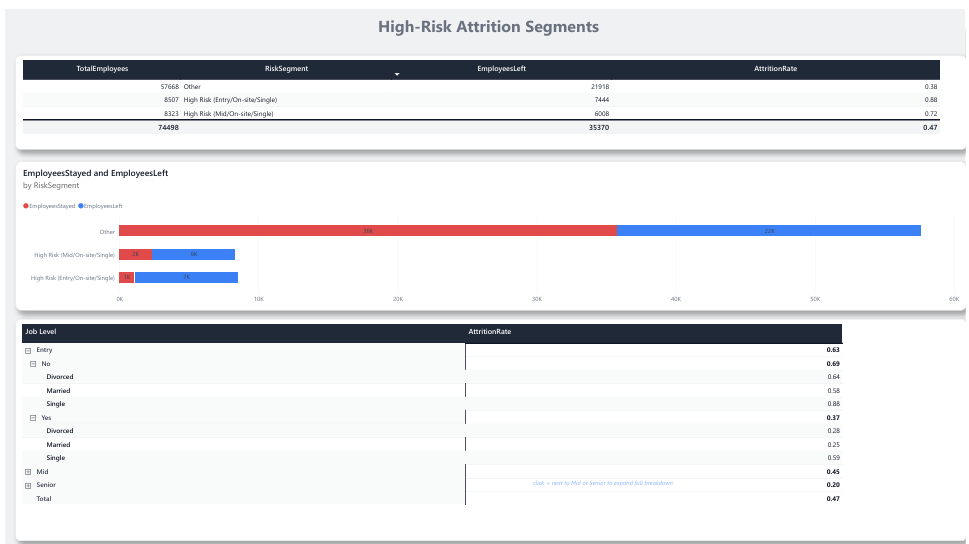

Layout of this report page (visuals, bound fields, positions):
{"tool":"powerbi","page":{"name":"Risk Segment","canvas":[1920,1080],"ordinal":2},"visuals":[{"type":"textbox","box":[10,0,1910,70],"z":0},{"type":"tableEx","fields":{"Values":["factemployees.TotalEmployees","factemployees.RiskSegment","factemployees.EmployeesLeft","factemployees.AttritionRate"]},"box":[19.1,90.7,1901.6,188.5],"z":1000},{"type":"barChart","fields":{"Y":["factemployees.EmployeesStayed","factemployees.EmployeesLeft"],"Category":["factemployees.RiskSegment"]},"box":[19.1,303,1901.6,298.2],"z":2000},{"type":"pivotTable","fields":{"Rows":["DimJobLevel.Job Level","DimRemoteWork.Remote Work","DimMaritalStatus.Marital Status"],"Values":["factemployees.AttritionRate"]},"box":[19.1,618,1901.6,443.8],"z":3000},{"type":"textbox","box":[1040.3,925.7,880.4,69.2],"z":4000}]}

Visuals, with their boxes in screenshot pixels (x1, y1, x2, y2), scaled from the page's 1920x1080 canvas onto the 969x544 screenshot:
textbox: box(5, 0, 968, 35)
tableEx - factemployees.TotalEmployees x factemployees.RiskSegment: box(10, 46, 968, 141)
barChart - factemployees.EmployeesStayed x factemployees.EmployeesLeft: box(10, 153, 968, 303)
pivotTable - DimJobLevel.Job Level x DimRemoteWork.Remote Work: box(10, 311, 968, 535)
textbox: box(525, 466, 968, 501)
